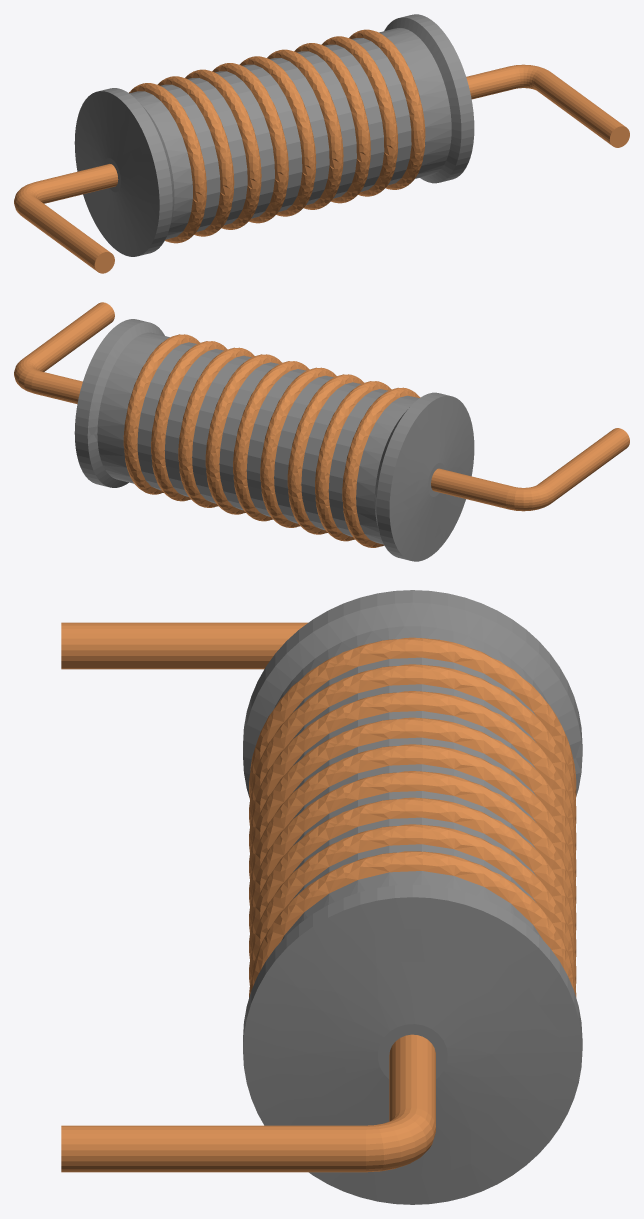
Rendered from L_Axial_L12.8mm_D5.8mm_P20.32mm_Horizontal_Fastron_HBCC.glb.
The picture shows the model from 3 angles, top to bottom: view 1: azimuth 30°, elevation 25°; view 2: azimuth 150°, elevation 25°; view 3: azimuth 270°, elevation 25°; orthographic projection. The views are drawn at different scales.
Parts seen in each view (by area): view 1: Shape_IndexedFaceSet.029, Shape_IndexedFaceSet.005, Shape_IndexedFaceSet.026, Shape_IndexedFaceSet.025, Shape_IndexedFaceSet.021, Shape_IndexedFaceSet.013, Shape_IndexedFaceSet.015, Shape_IndexedFaceSet.019, Shape_IndexedFaceSet.011, Shape_IndexedFaceSet.017, Shape_IndexedFaceSet.023, Shape_IndexedFaceSet.007 (+17 smaller); view 2: Shape_IndexedFaceSet.029, Shape_IndexedFaceSet.005, Shape_IndexedFaceSet.026, Shape_IndexedFaceSet.025, Shape_IndexedFaceSet.021, Shape_IndexedFaceSet.013, Shape_IndexedFaceSet.015, Shape_IndexedFaceSet.019, Shape_IndexedFaceSet.007, Shape_IndexedFaceSet.023, Shape_IndexedFaceSet.017, Shape_IndexedFaceSet.011 (+17 smaller); view 3: Shape_IndexedFaceSet, Shape_IndexedFaceSet.008, Shape_IndexedFaceSet.027, Shape_IndexedFaceSet.033, Shape_IndexedFaceSet.023, Shape_IndexedFaceSet.017, Shape_IndexedFaceSet.011, Shape_IndexedFaceSet.019, Shape_IndexedFaceSet.025, Shape_IndexedFaceSet.021, Shape_IndexedFaceSet.015, Shape_IndexedFaceSet.013 (+16 smaller).
Part boxes in pixels (bbox=[...]): Shape_IndexedFaceSet.029: bbox=[74, 91, 159, 256]; Shape_IndexedFaceSet.005: bbox=[379, 28, 451, 178]; Shape_IndexedFaceSet.026: bbox=[129, 91, 192, 239]; Shape_IndexedFaceSet.025: bbox=[129, 83, 206, 243]; Shape_IndexedFaceSet.021: bbox=[185, 69, 261, 229]; Shape_IndexedFaceSet.013: bbox=[294, 43, 370, 203]; Shape_IndexedFaceSet.015: bbox=[267, 49, 343, 209]; Shape_IndexedFaceSet.019: bbox=[212, 63, 288, 223]; Shape_IndexedFaceSet.011: bbox=[321, 36, 398, 196]; Shape_IndexedFaceSet.017: bbox=[239, 56, 316, 216]; Shape_IndexedFaceSet.023: bbox=[157, 76, 234, 236]; Shape_IndexedFaceSet.007: bbox=[349, 29, 425, 189]; Shape_IndexedFaceSet.029: bbox=[389, 396, 474, 561]; Shape_IndexedFaceSet.005: bbox=[97, 332, 169, 483]; Shape_IndexedFaceSet.026: bbox=[356, 395, 419, 544]; Shape_IndexedFaceSet.025: bbox=[342, 387, 420, 547]; Shape_IndexedFaceSet.021: bbox=[287, 374, 363, 534]; Shape_IndexedFaceSet.013: bbox=[178, 347, 254, 507]; Shape_IndexedFaceSet.015: bbox=[205, 354, 281, 514]; Shape_IndexedFaceSet.019: bbox=[260, 367, 336, 527]; Shape_IndexedFaceSet.007: bbox=[123, 334, 199, 494]; Shape_IndexedFaceSet.023: bbox=[315, 381, 391, 541]; Shape_IndexedFaceSet.017: bbox=[233, 361, 309, 521]; Shape_IndexedFaceSet.011: bbox=[151, 341, 227, 501]; Shape_IndexedFaceSet: bbox=[243, 897, 582, 1204]; Shape_IndexedFaceSet.008: bbox=[61, 1125, 365, 1172]; Shape_IndexedFaceSet.027: bbox=[243, 602, 582, 797]; Shape_IndexedFaceSet.033: bbox=[61, 622, 307, 669]; Shape_IndexedFaceSet.023: bbox=[249, 664, 576, 827]; Shape_IndexedFaceSet.017: bbox=[249, 744, 576, 907]; Shape_IndexedFaceSet.011: bbox=[249, 824, 576, 987]; Shape_IndexedFaceSet.019: bbox=[249, 717, 576, 880]; Shape_IndexedFaceSet.025: bbox=[249, 637, 576, 800]; Shape_IndexedFaceSet.021: bbox=[249, 691, 576, 853]; Shape_IndexedFaceSet.015: bbox=[249, 771, 576, 933]; Shape_IndexedFaceSet.013: bbox=[249, 797, 576, 960].
Bounding box in the file's own units: 8.31 × 2.28 × 3.5.
